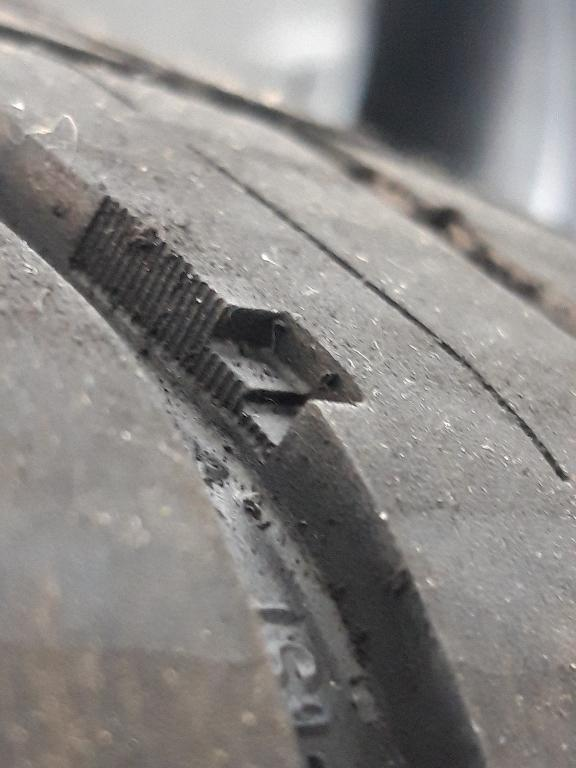temoin:50: (151, 266, 378, 482)
